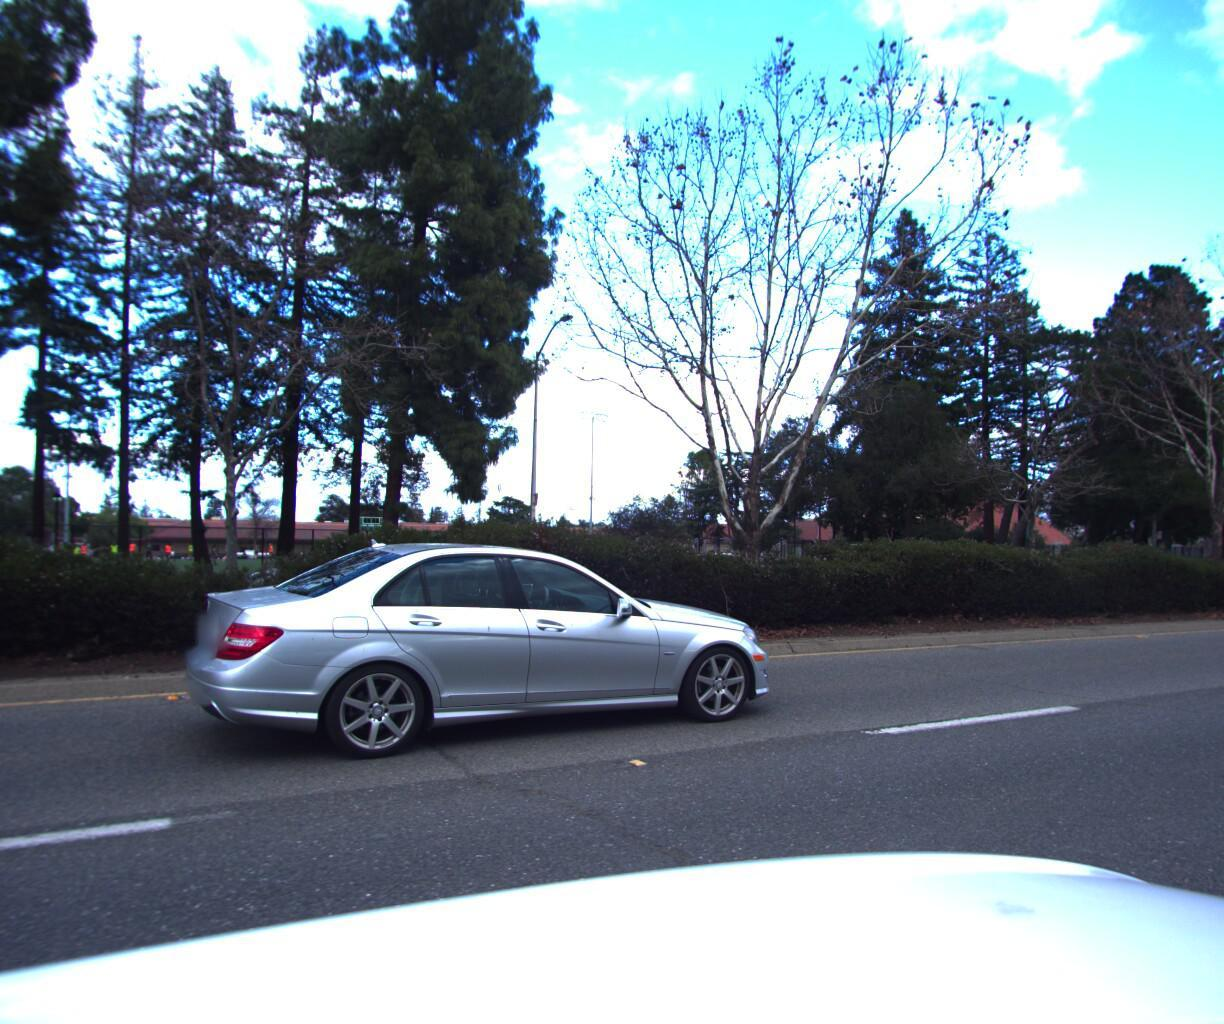car: (183, 525, 783, 785), (264, 524, 479, 603), (632, 543, 757, 591)
